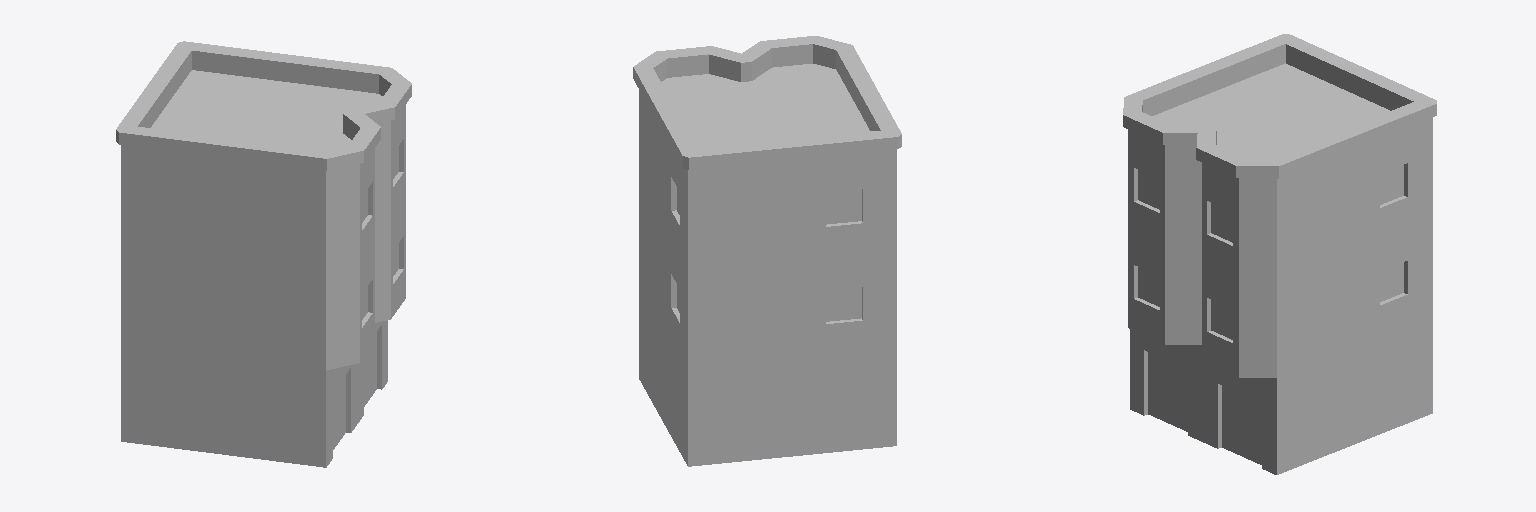
The model's file is variant_31.obj.
3 renders of one model, left to right at view 1: azimuth 30°, elevation 25°; view 2: azimuth 150°, elevation 25°; view 3: azimuth 270°, elevation 25°, orthographic.
Visible parts, largest first — view 1: Building; view 2: Building; view 3: Building.
Part boxes in pixels (bbox=[...]): Building: bbox=[116, 41, 411, 467]; Building: bbox=[633, 36, 901, 466]; Building: bbox=[1123, 34, 1436, 474].
Bounding box in the file's own units: 1.17 × 1.28 × 1.17.